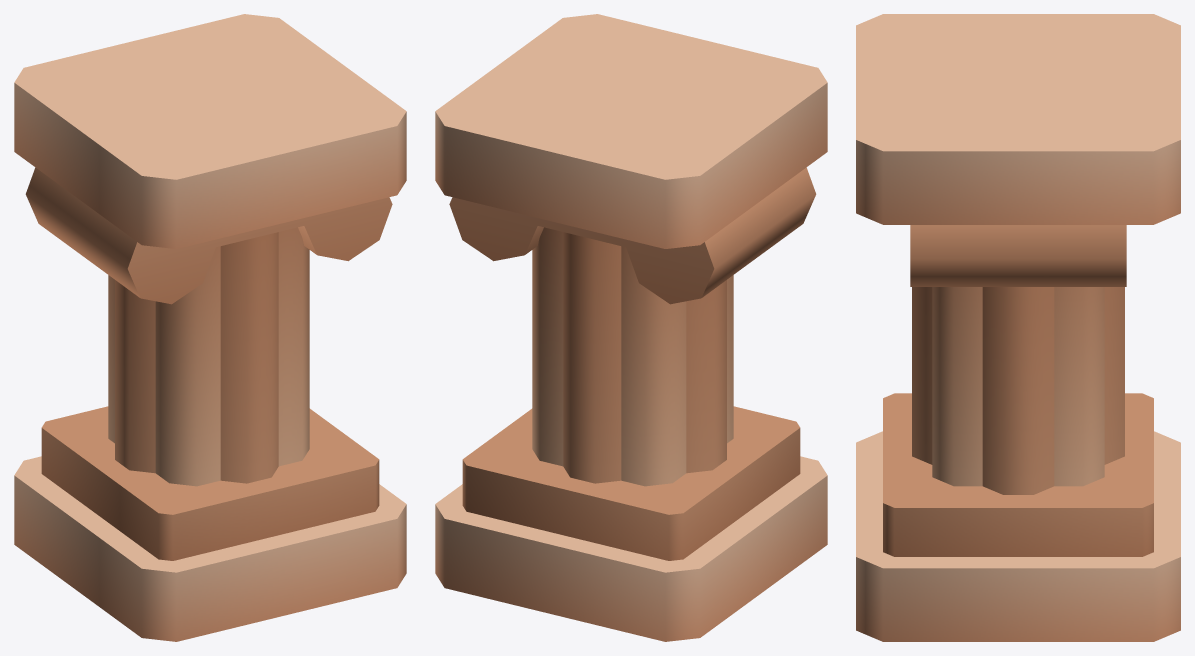
Rendered from arena_column.glb.
3 renders of one model, left to right at view 1: azimuth 30°, elevation 25°; view 2: azimuth 150°, elevation 25°; view 3: azimuth 270°, elevation 25°, orthographic. The views are drawn at different scales.
Parts seen in each view (by area): view 1: column; view 2: column; view 3: column.
Boxes of the visible parts, x1,y1,x2,y2 form: column: [14, 14, 406, 641]; column: [435, 14, 827, 641]; column: [856, 14, 1180, 641].
Bounding box in the file's own units: 0.6031 × 1 × 0.6.
Materials: 1 (1 with a texture image).
